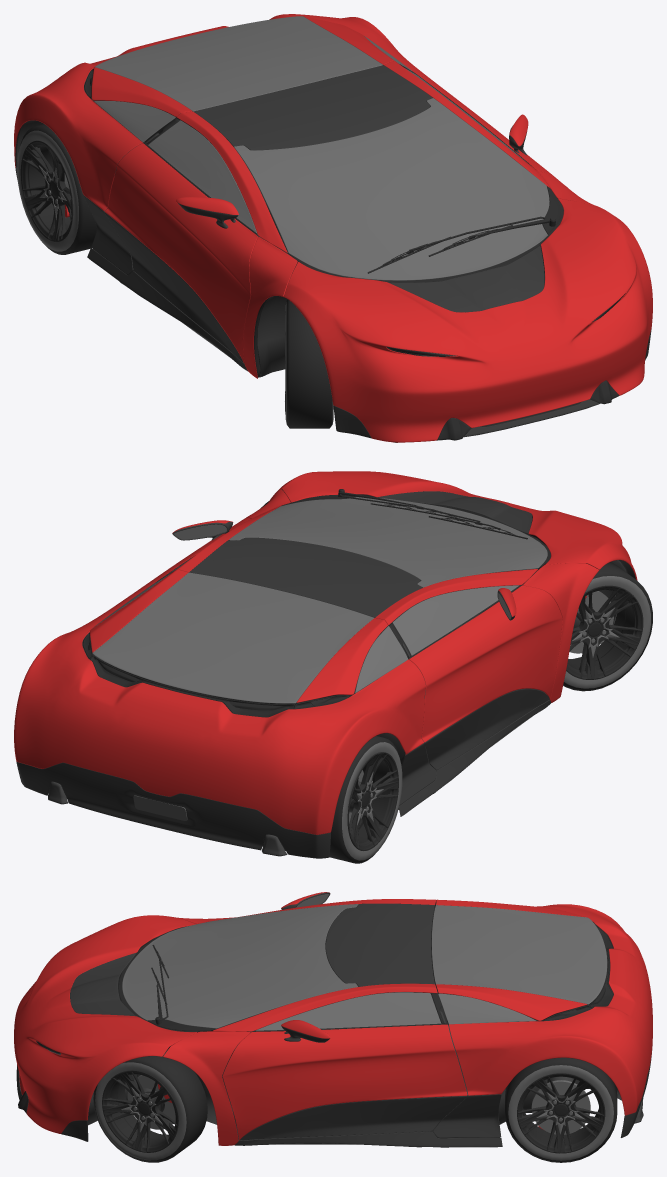
File: Sportscar.obj
3 renders of one model, top to bottom at view 1: azimuth 30°, elevation 25°; view 2: azimuth 150°, elevation 25°; view 3: azimuth 270°, elevation 25°, orthographic. The views are drawn at different scales.
Parts seen in each view (by area): view 1: Paint_1_Carmine, Glass, Paint_2_Carmine, Tiretread, Dark, Rim1, Mechanical, Tireside; view 2: Paint_1_Carmine, Glass, Paint_2_Carmine, Rim1, Dark, Tireside, Tiretread, Mechanical, Rim2, License, Mirror; view 3: Paint_1_Carmine, Glass, Paint_2_Carmine, Rim1, Tireside, Tiretread, Dark, Mechanical, Disc, Rim2, Panel_Sides.
Part boxes in pixels (x1=…): Paint_1_Carmine: x1=14, y1=14, x2=652, y2=442; Glass: x1=94, y1=16, x2=549, y2=280; Paint_2_Carmine: x1=15, y1=65, x2=651, y2=438; Tiretread: x1=20, y1=124, x2=332, y2=428; Dark: x1=16, y1=64, x2=618, y2=440; Rim1: x1=20, y1=140, x2=285, y2=414; Mechanical: x1=16, y1=120, x2=599, y2=442; Tireside: x1=17, y1=130, x2=333, y2=423; Paint_1_Carmine: x1=14, y1=471, x2=637, y2=834; Glass: x1=92, y1=497, x2=547, y2=703; Paint_2_Carmine: x1=16, y1=491, x2=550, y2=858; Rim1: x1=347, y1=585, x2=643, y2=850; Dark: x1=83, y1=489, x2=635, y2=753; Tireside: x1=342, y1=576, x2=650, y2=860; Tiretread: x1=260, y1=501, x2=652, y2=863; Mechanical: x1=48, y1=560, x2=626, y2=856; Rim2: x1=357, y1=607, x2=619, y2=824; License: x1=133, y1=795, x2=187, y2=820; Mirror: x1=174, y1=524, x2=511, y2=618; Paint_1_Carmine: x1=14, y1=892, x2=652, y2=1145; Glass: x1=122, y1=904, x2=607, y2=1030; Paint_2_Carmine: x1=16, y1=892, x2=652, y2=1147; Rim1: x1=102, y1=1070, x2=605, y2=1153; Tireside: x1=95, y1=1062, x2=613, y2=1160; Tiretread: x1=93, y1=1054, x2=617, y2=1162; Dark: x1=18, y1=901, x2=613, y2=1143; Mechanical: x1=38, y1=1025, x2=643, y2=1144; Disc: x1=127, y1=1075, x2=590, y2=1134; Rim2: x1=121, y1=1087, x2=585, y2=1134; Panel_Sides: x1=222, y1=1031, x2=499, y2=1143.
Bounding box in the file's own units: 2.05 × 0.9264 × 3.51.
